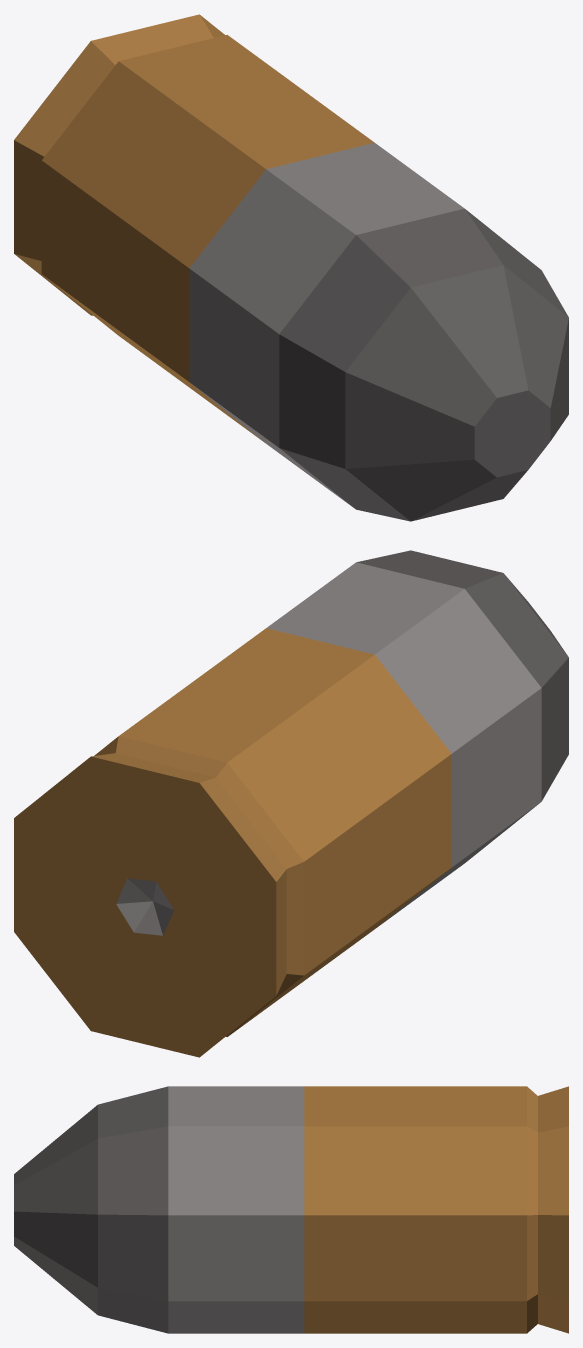
The model's file is SM_Ammo_Grenade_Smoke.fbx.
3 renders of one model, top to bottom at view 1: azimuth 30°, elevation 25°; view 2: azimuth 150°, elevation 25°; view 3: azimuth 270°, elevation 25°, orthographic. The views are drawn at different scales.
Parts seen in each view (by area): view 1: SM_Ammo_Grenade_Smoke; view 2: SM_Ammo_Grenade_Smoke; view 3: SM_Ammo_Grenade_Smoke.
Boxes of the visible parts, x1,y1,x2,y2 form: SM_Ammo_Grenade_Smoke: (14, 14, 568, 521); SM_Ammo_Grenade_Smoke: (14, 550, 568, 1057); SM_Ammo_Grenade_Smoke: (14, 1086, 568, 1333).
Bounding box in the file's own units: 0.0388 × 0.0388 × 0.0942.
